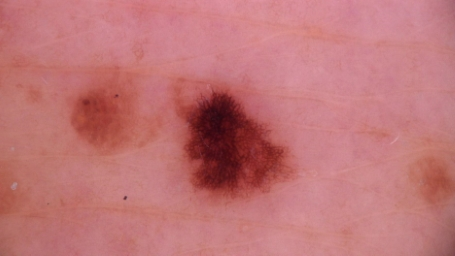nevus: (185, 91, 299, 197), (73, 89, 133, 148)
